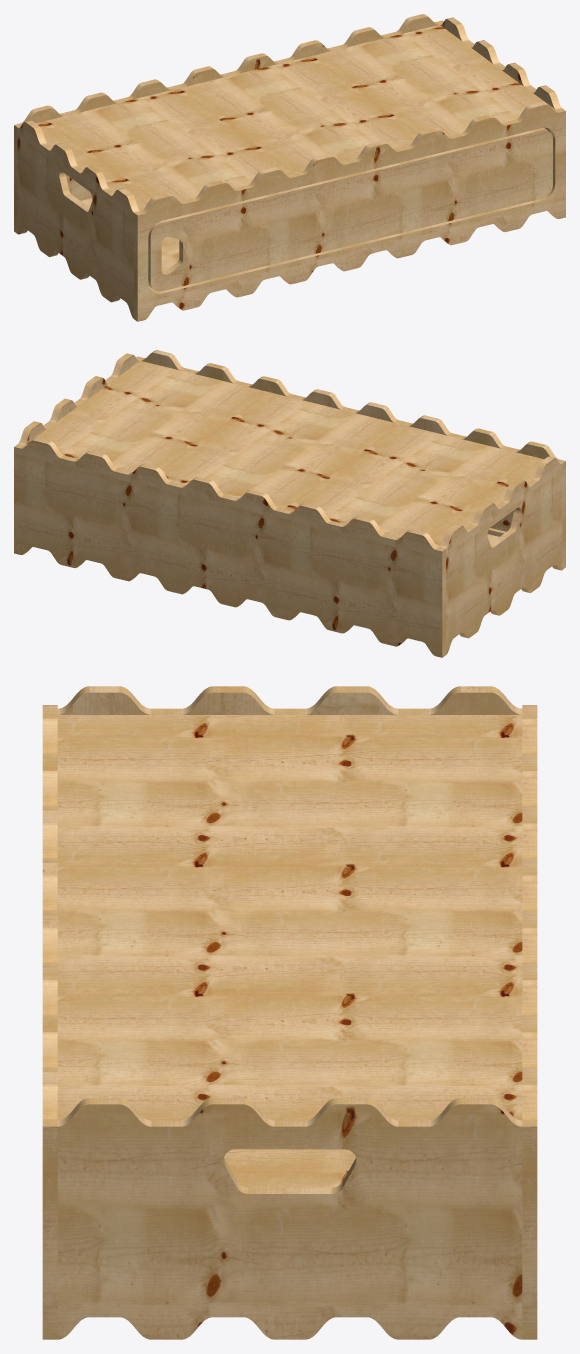
The model's file is half_two_center_scale.glb.
3 renders of one model, top to bottom at view 1: azimuth 30°, elevation 25°; view 2: azimuth 150°, elevation 25°; view 3: azimuth 270°, elevation 25°, orthographic. The views are drawn at different scales.
Visible parts, largest first — view 1: half_two.center.scale; view 2: half_two.center.scale; view 3: half_two.center.scale.
Boxes of the visible parts, x1,y1,x2,y2 form: half_two.center.scale: [14, 14, 565, 321]; half_two.center.scale: [14, 350, 565, 657]; half_two.center.scale: [42, 686, 537, 1339].
Size of the model in its own units: 1 by 0.2625 by 0.5.
1 material, 1 textured.
